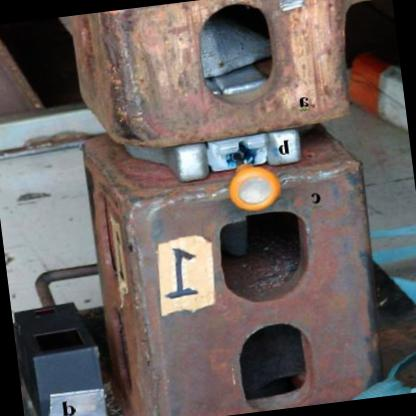CornerCasting: (67, 0, 363, 159)
